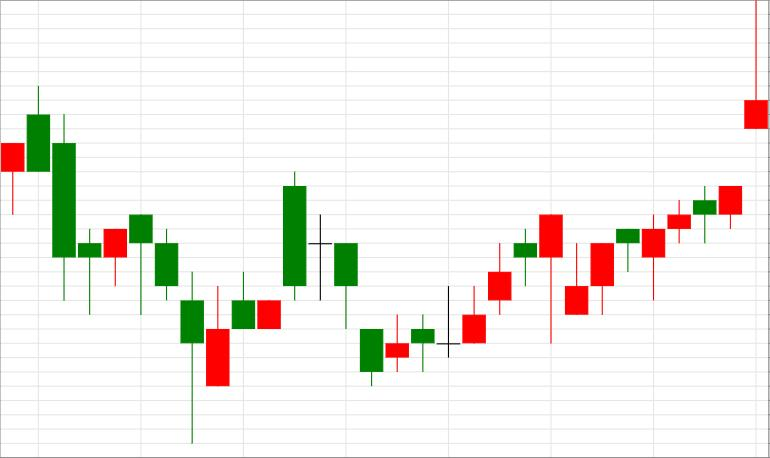hanging_man_fall: (437, 214, 563, 359)
shooting_star_fall: (566, 0, 768, 315)
